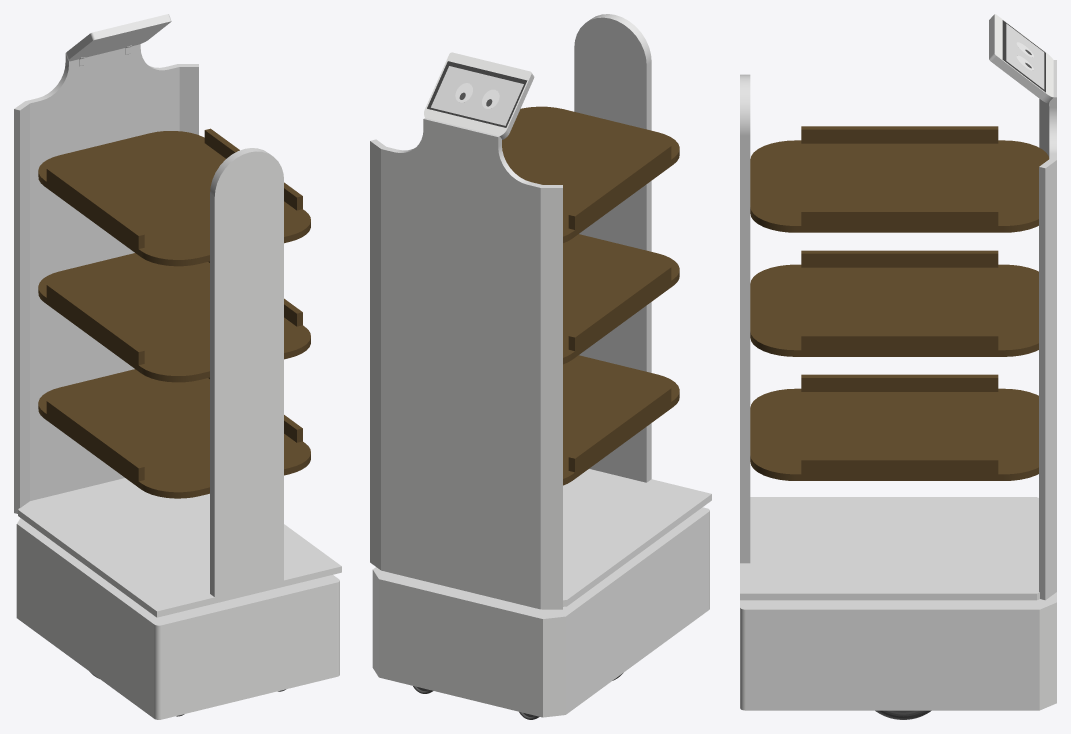
The model's file is serving-bot-anyconv.glb.
The picture shows the model from 3 angles, left to right: view 1: azimuth 30°, elevation 25°; view 2: azimuth 150°, elevation 25°; view 3: azimuth 270°, elevation 25°; orthographic projection. The views are drawn at different scales.
Parts seen in each view (by area): view 1: Body1_node_28, Lower_body_node, Body1_node_27, Upper_body, Body1_node_30, Body2_node_15, Body1_node_29, Display_cover_node; view 2: Body1_node_28, Lower_body_node, Body1_node_27, Body1_node_30, Upper_body, Body2_node_15, Body1_node_29, Body1_node_23, Display_cover_node, Body2_node_14; view 3: Lower_body_node, Upper_body, Body1_node_30, Body1_node_29, Body2_node_15, Body1_node_28, Body1_node_27, Display_cover_node, Body1_node_23.
Boxes of the visible parts, x1=… form: Body1_node_28: x1=14, y1=44, x2=198, y2=513; Lower_body_node: x1=16, y1=518, x2=339, y2=719; Body1_node_27: x1=210, y1=148, x2=283, y2=597; Upper_body: x1=18, y1=478, x2=341, y2=617; Body1_node_30: x1=38, y1=128, x2=310, y2=266; Body2_node_15: x1=38, y1=369, x2=310, y2=498; Body1_node_29: x1=38, y1=253, x2=310, y2=382; Display_cover_node: x1=66, y1=14, x2=171, y2=66; Body1_node_28: x1=370, y1=118, x2=562, y2=609; Lower_body_node: x1=372, y1=507, x2=709, y2=717; Body1_node_27: x1=574, y1=14, x2=651, y2=482; Body1_node_30: x1=502, y1=106, x2=679, y2=242; Upper_body: x1=381, y1=469, x2=711, y2=609; Body2_node_15: x1=563, y1=355, x2=679, y2=485; Body1_node_29: x1=563, y1=234, x2=679, y2=364; Body1_node_23: x1=431, y1=66, x2=523, y2=125; Display_cover_node: x1=424, y1=52, x2=534, y2=139; Body2_node_14: x1=427, y1=61, x2=527, y2=127; Lower_body_node: x1=740, y1=592, x2=1056, y2=710; Upper_body: x1=740, y1=497, x2=1039, y2=600; Body1_node_30: x1=750, y1=126, x2=1049, y2=232; Body1_node_29: x1=750, y1=250, x2=1038, y2=356; Body2_node_15: x1=750, y1=374, x2=1038, y2=480; Body1_node_28: x1=1039, y1=60, x2=1056, y2=600; Body1_node_27: x1=740, y1=74, x2=750, y2=563; Display_cover_node: x1=989, y1=14, x2=1053, y2=105; Body1_node_23: x1=1006, y1=23, x2=1044, y2=89.
Size of the model in its own units: 40 by 125 by 55.5.
